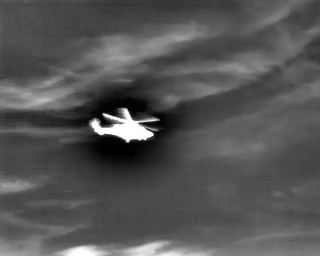HELICOPTER: (89, 101, 164, 149)
